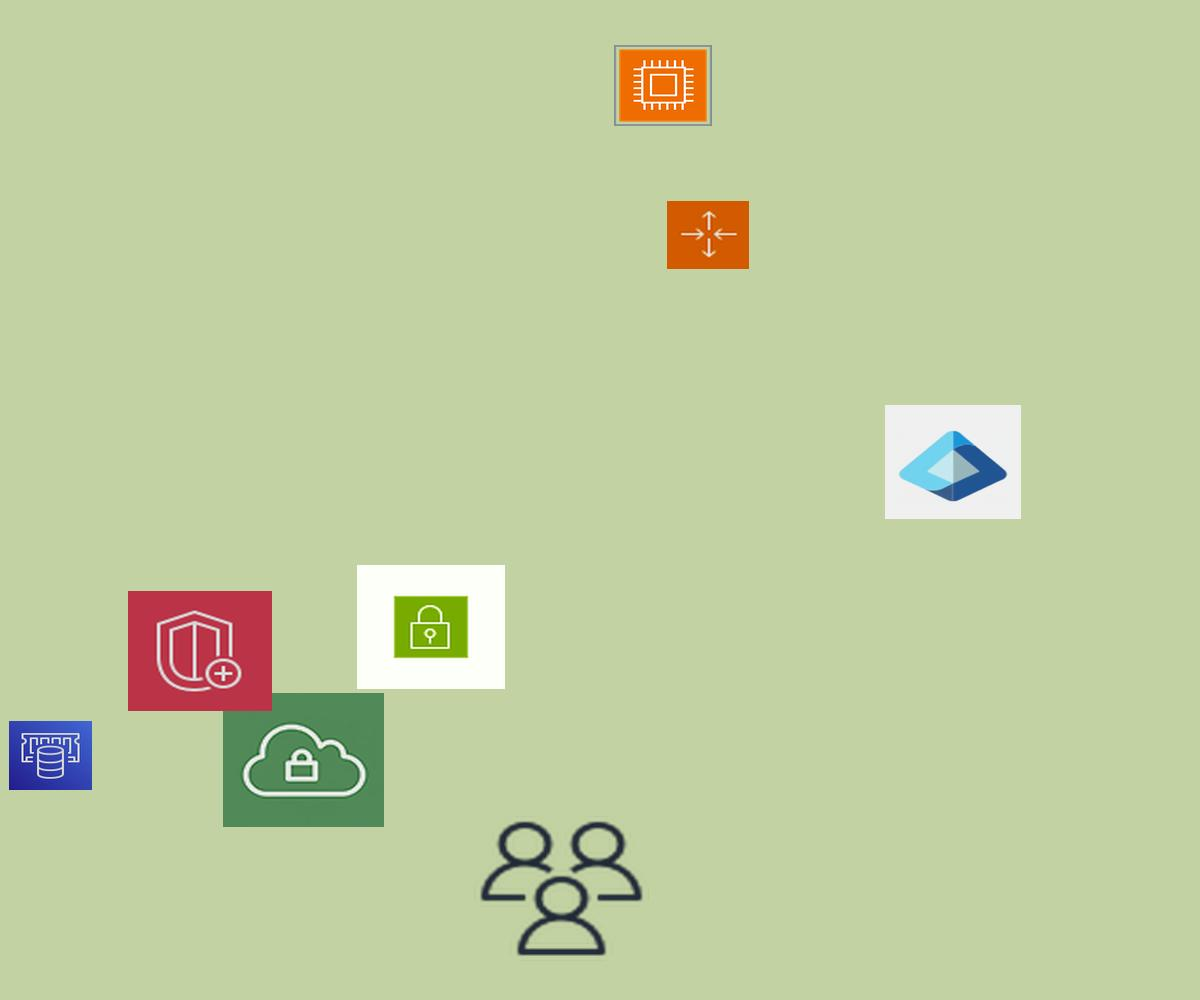AWS-Category_Compute: (614, 45, 712, 126)
AWS-ElastiCache: (9, 721, 92, 790)
AWS-Private_vpc: (223, 693, 384, 827)
AWS-Public-subnet: (357, 565, 505, 689)
AWS-Res_Users: (474, 816, 649, 961)
AWS-Scaling-group: (667, 201, 749, 269)
AWS-Shield: (128, 591, 272, 711)
Azure_microsoft_entra: (885, 405, 1021, 519)
